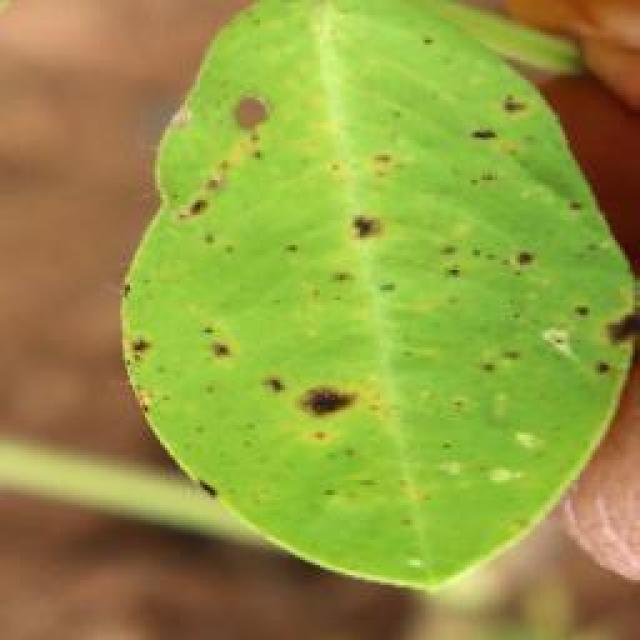Yellowish: (125, 30, 640, 522)
